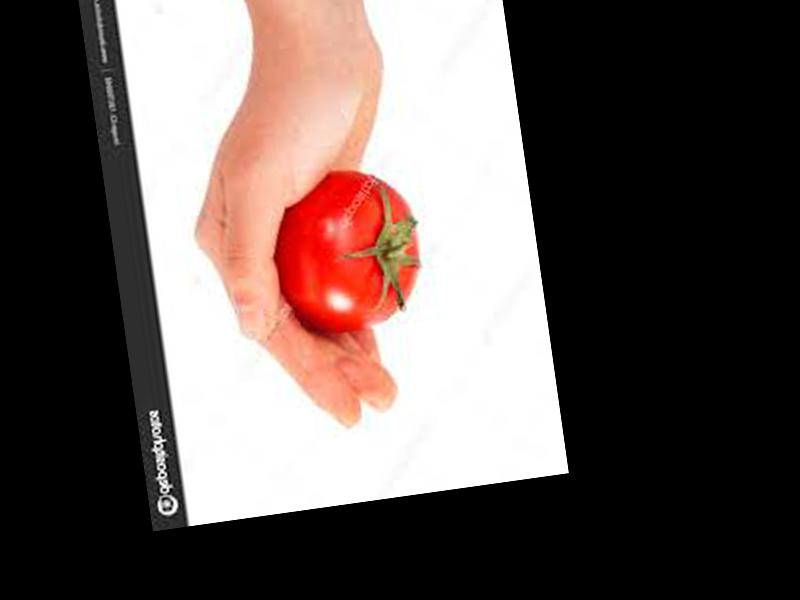Tomato: (266, 160, 427, 335)
